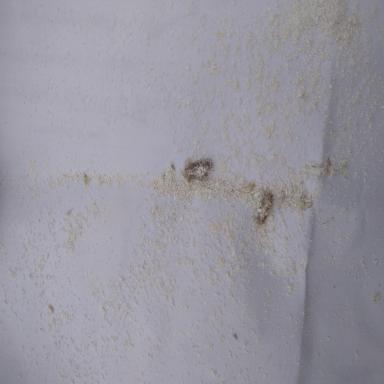pbw: (185, 158, 213, 182), (256, 190, 272, 231)
